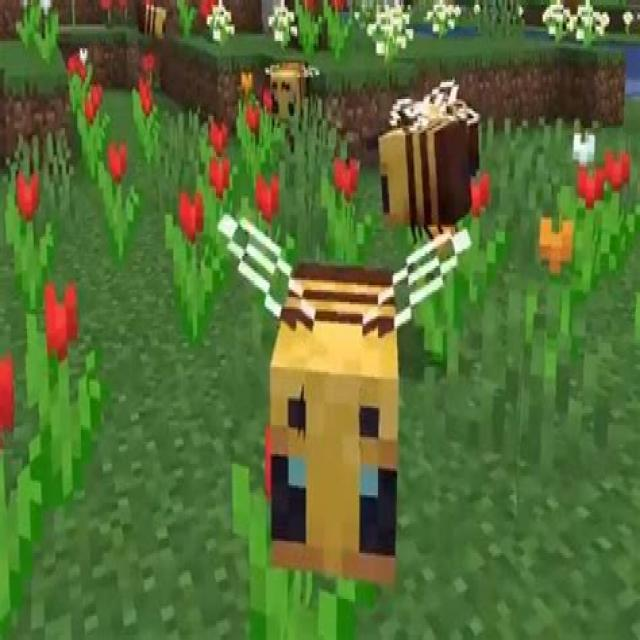Bee: (216, 217, 471, 604), (376, 81, 473, 231), (262, 39, 323, 145)
